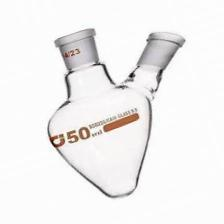Pear shaped flask: (31, 31, 190, 201)
